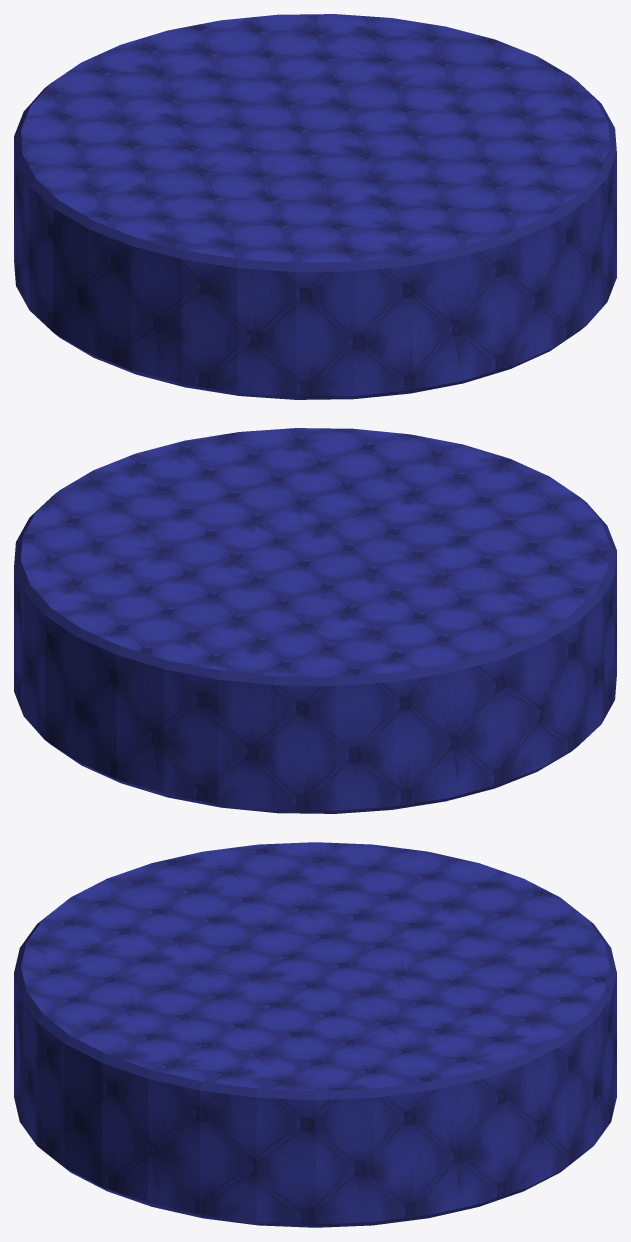
Rendered from Seat 2.glb.
3 renders of one model, top to bottom at view 1: azimuth 30°, elevation 25°; view 2: azimuth 150°, elevation 25°; view 3: azimuth 270°, elevation 25°, orthographic.
Visible parts, largest first — view 1: Poof 1; view 2: Poof 1; view 3: Poof 1.
Boxes of the visible parts, left/top/right/bottom form: Poof 1: left=14, top=14, right=616, bottom=399; Poof 1: left=14, top=428, right=616, bottom=813; Poof 1: left=14, top=842, right=616, bottom=1227.
Size of what is drawn, in the model's own units: 2.44 by 0.6096 by 2.44.
1 material, 1 textured.
